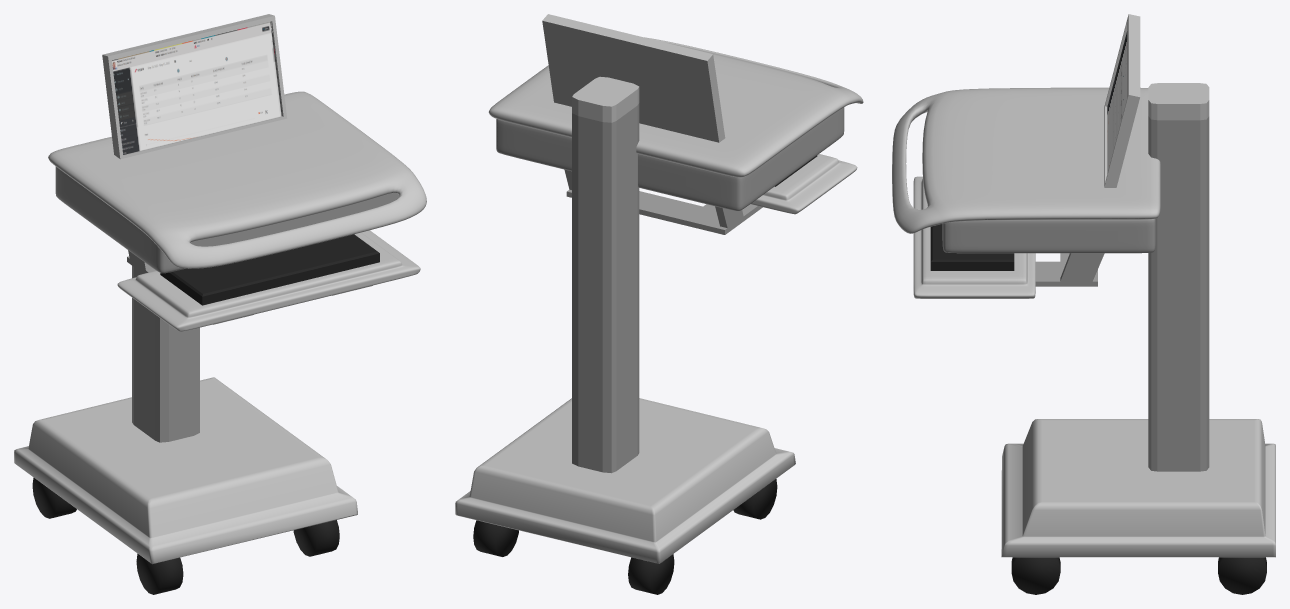
Rendered from computer on wheels export.fbx.
The picture shows the model from 3 angles, left to right: view 1: azimuth 30°, elevation 25°; view 2: azimuth 150°, elevation 25°; view 3: azimuth 270°, elevation 25°; orthographic projection.
Visible parts, largest first — view 1: cow; view 2: cow; view 3: cow.
Part boxes in pixels (x1,y1,x2,y2): cow: [14, 14, 426, 594]; cow: [455, 14, 863, 594]; cow: [892, 14, 1275, 594].
Bounding box in the file's own units: 84.91 × 155 × 108.
